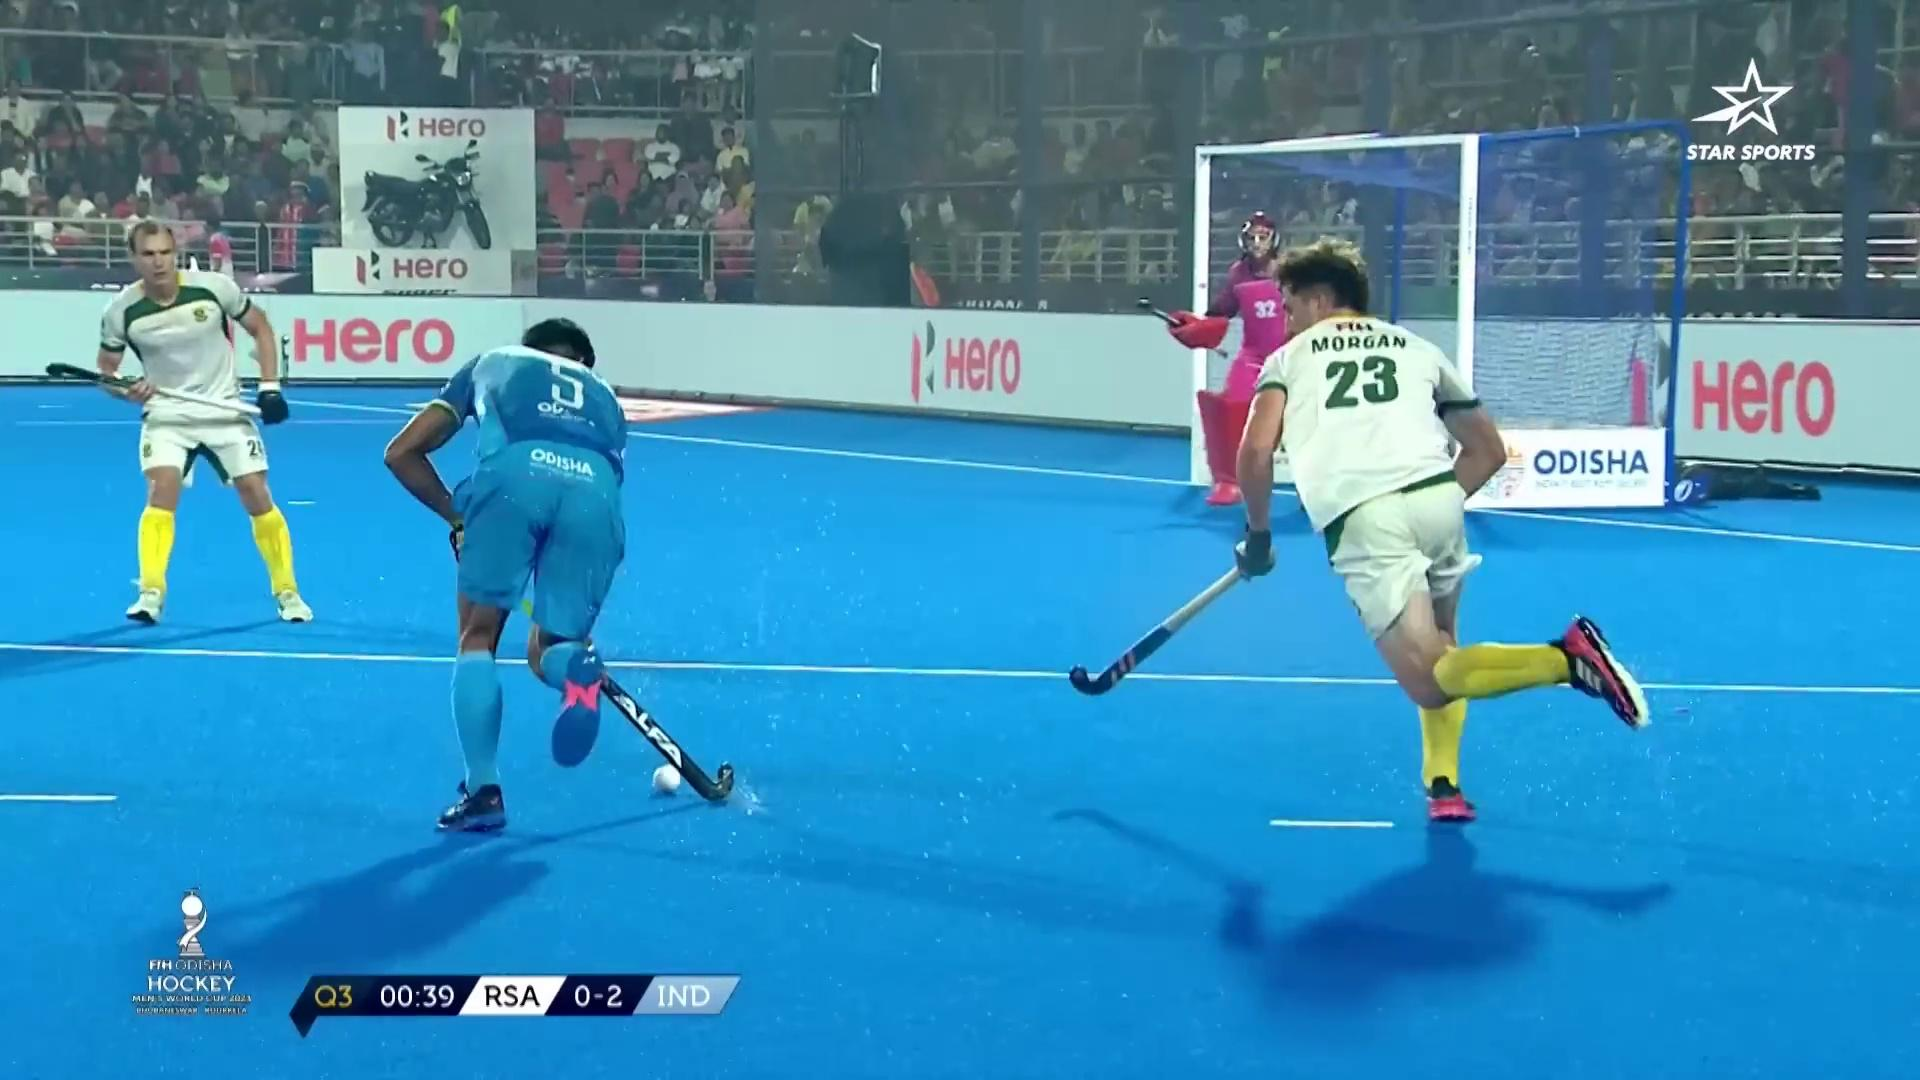ball: (647, 752, 691, 794)
